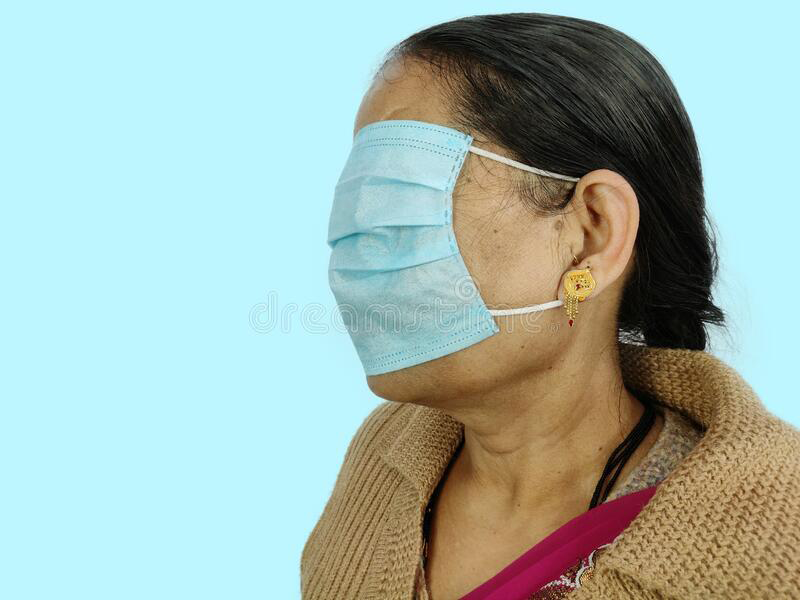mask_weared_incorrect: (326, 113, 548, 409)
